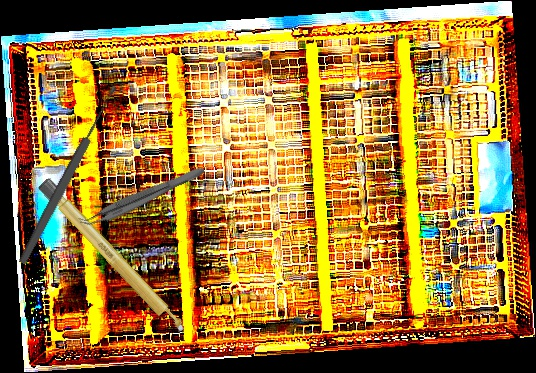Scalpel Handle: (36, 176, 191, 341)
Surgical Spoon: (16, 84, 121, 266)
Tissue Forceps: (77, 158, 207, 234)
